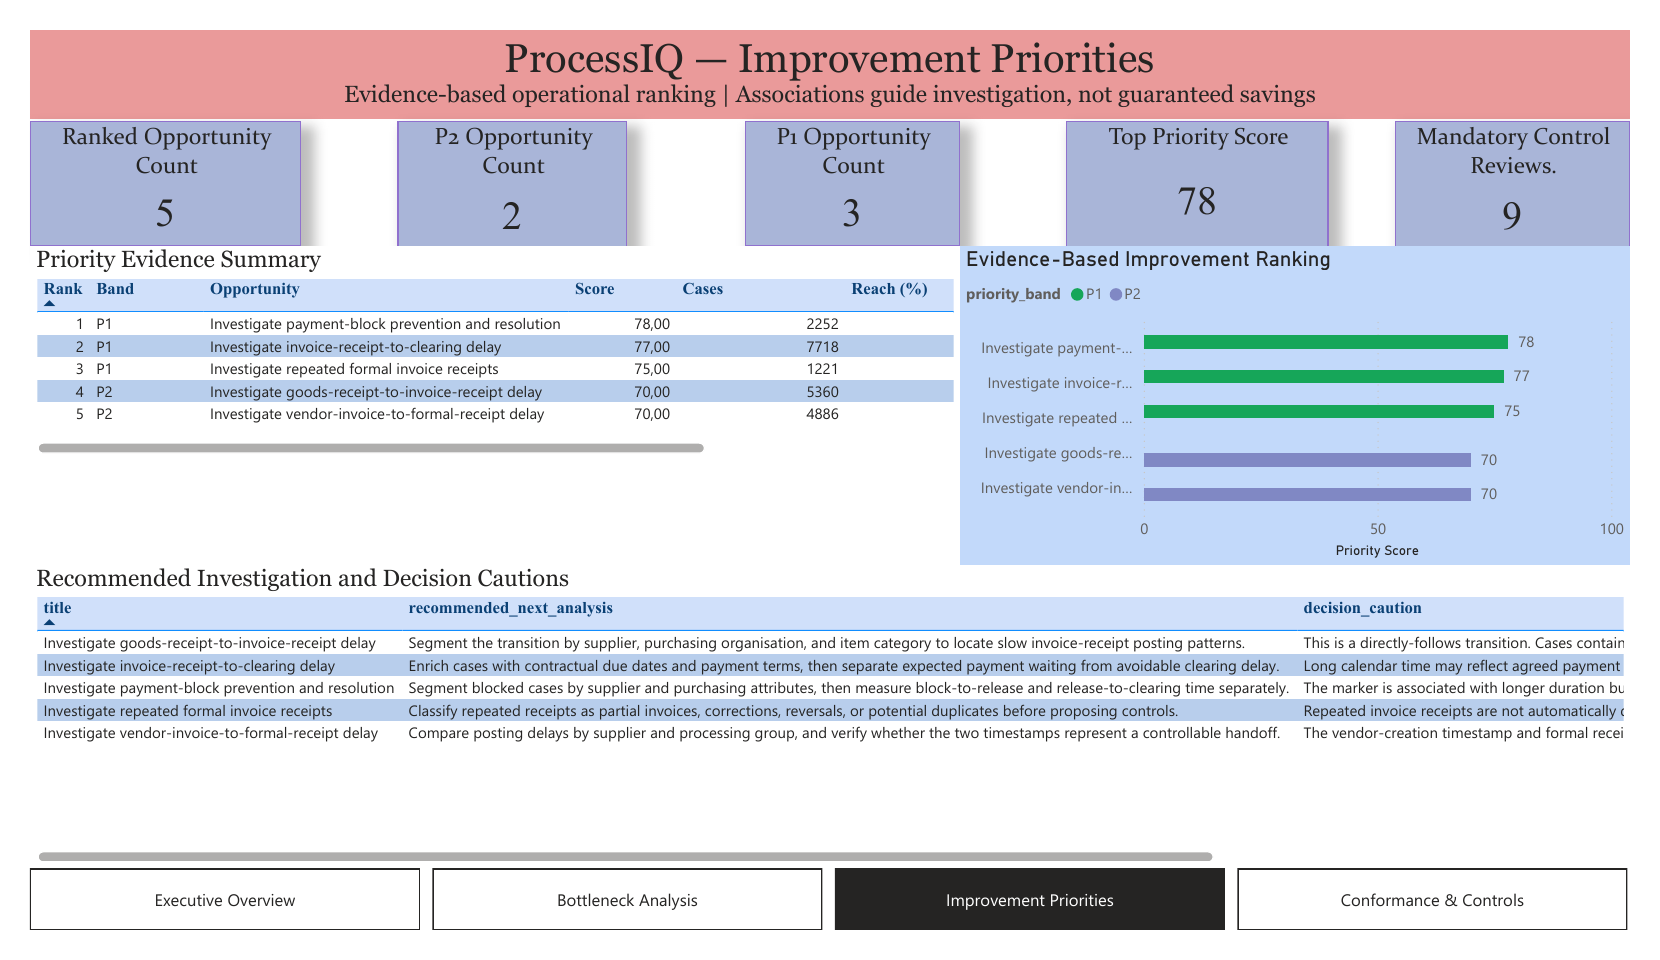

This screenshot's page, from the dashboard's own definition file:
{"tool":"powerbi","page":{"name":"Improvement Priorities","canvas":[1280,720],"ordinal":2},"visuals":[{"type":"textbox","box":[0,0,1280.3,71.4],"z":0},{"type":"card","title":"Ranked Opportunity Count","fields":{"Values":["improvement_priorities.Ranked Opportunity Count"]},"box":[0,72.7,216.8,100.2],"z":1000},{"type":"card","title":"P1 Opportunity Count","fields":{"Values":["improvement_priorities.P1 Opportunity Count"]},"box":[572.2,72.7,171.5,100.2],"z":2000},{"type":"card","title":"P2 Opportunity Count","fields":{"Values":["improvement_priorities.P2 Opportunity Count"]},"box":[293.7,72.7,183.9,104.3],"z":3000},{"type":"card","title":"Top Priority Score","fields":{"Values":["improvement_priorities.Priority Score"]},"box":[828.8,72.7,209.9,102.9],"z":4000},{"type":"card","title":"Mandatory Control Reviews.","fields":{"Values":["dashboard_cases.Review Required Cases"]},"box":[1092.3,72.7,188,104.3],"z":5000},{"type":"clusteredBarChart","title":"Evidence-Based Improvement Ranking","fields":{"Category":["improvement_priorities.title"],"Y":["improvement_priorities.Priority Score"],"Series":["improvement_priorities.priority_band"]},"box":[743.7,172.9,536.5,255.2],"z":6000},{"type":"tableEx","title":"Priority Evidence Summary","fields":{"Values":["improvement_priorities.rank","improvement_priorities.priority_band","improvement_priorities.title","improvement_priorities.overall_score","Sum(improvement_priorities.affected_cases)","Sum(improvement_priorities.reach_percentage)","Sum(improvement_priorities.representative_delay_days)"]},"box":[0,172.9,743.7,171.5],"z":7000},{"type":"tableEx","title":"Recommended Investigation and Decision Cautions","fields":{"Values":["improvement_priorities.title","improvement_priorities.recommended_next_analysis","improvement_priorities.decision_caution"]},"box":[0,428.1,1280.3,242.9],"z":8000},{"type":"pageNavigator","box":[0,671,1280.3,49.4],"z":9000}]}

Visuals, with their boxes in screenshot pixels (x1, y1, x2, y2), scaled from the page's 1280x720 canvas onto the 1660x960 screenshot:
textbox: box(0, 0, 1659, 95)
"Ranked Opportunity Count" card: box(0, 97, 281, 231)
"P1 Opportunity Count" card: box(742, 97, 964, 231)
"P2 Opportunity Count" card: box(381, 97, 619, 236)
"Top Priority Score" card: box(1075, 97, 1347, 234)
"Mandatory Control Reviews." card: box(1417, 97, 1659, 236)
"Evidence-Based Improvement Ranking" clusteredBarChart: box(964, 231, 1659, 571)
"Priority Evidence Summary" tableEx: box(0, 231, 964, 459)
"Recommended Investigation and Decision Cautions" tableEx: box(0, 571, 1659, 895)
pageNavigator: box(0, 895, 1659, 959)
